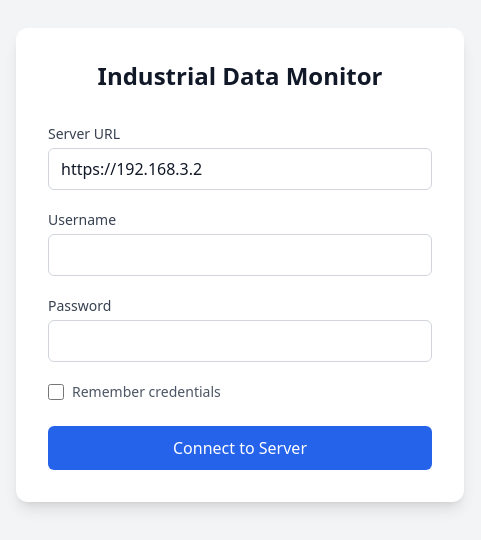
LoginForm › shows an error when Server URL format is invalid
Type "not-a-url" into the field with id "serverUrl".
click(240, 169); type("not-a-url")  # box [48,148,432,190]
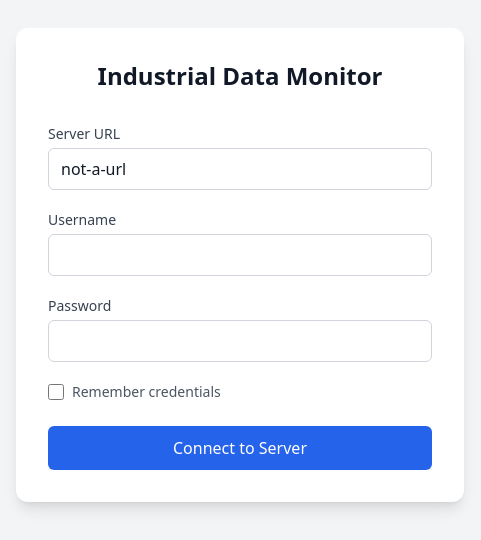
Type "user" into the field with id "username".
click(240, 255); type("user")  # box [48,234,432,276]
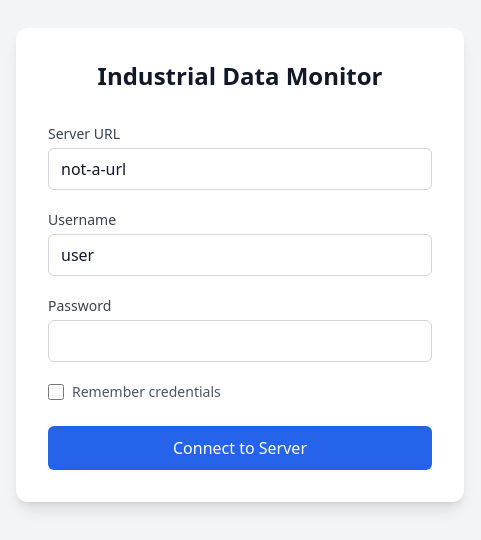
Type "pass" into the password field labelled "Password".
click(240, 341); type("pass")  # box [48,320,432,362]
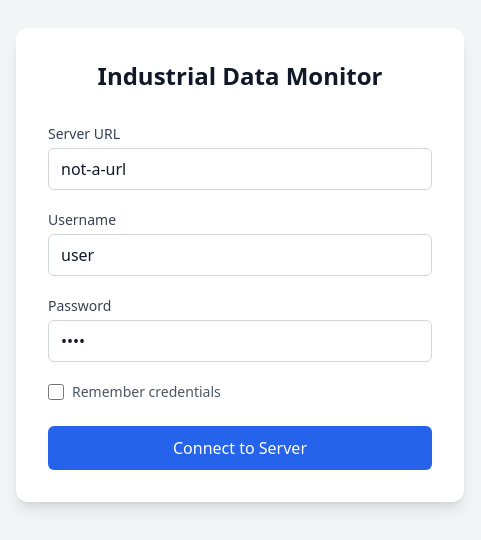
Submit the form, box [48,124,432,470]
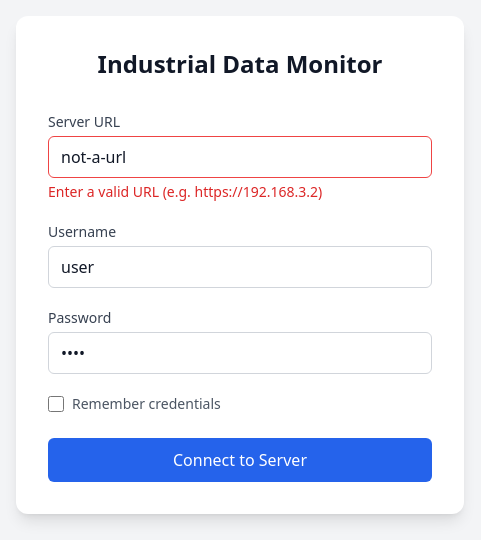
Check: the text "valid URL" is shown, box [48,182,322,201]
